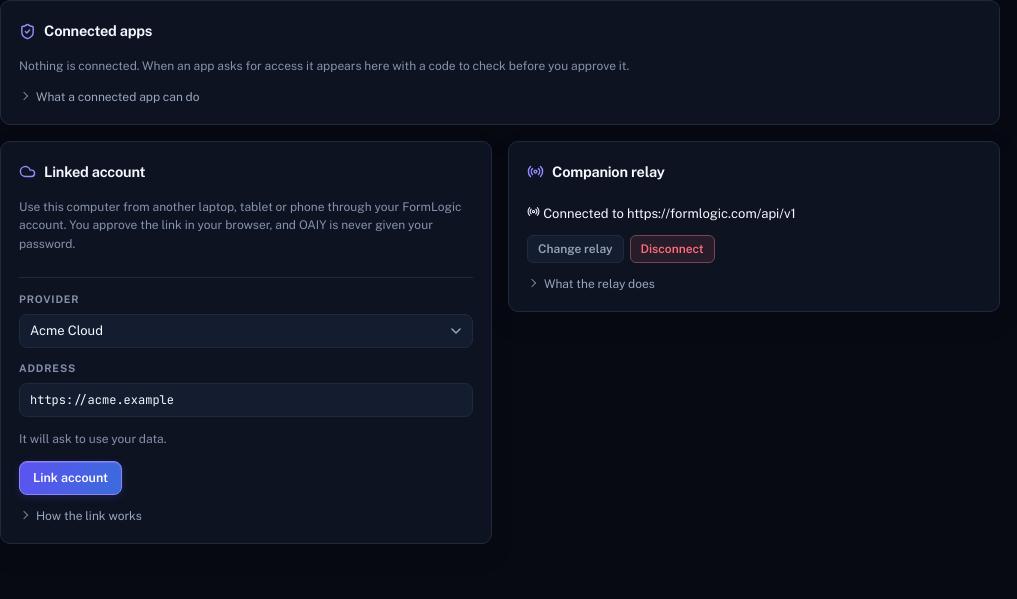
ConnectionsPanel · Companion relay › asks before disconnecting, and says approved phones survive it
The width and height of the screenshot is (1017, 599).
Click the button "Disconnect" at [672, 249], box x1=630 y1=235 x2=715 y2=263
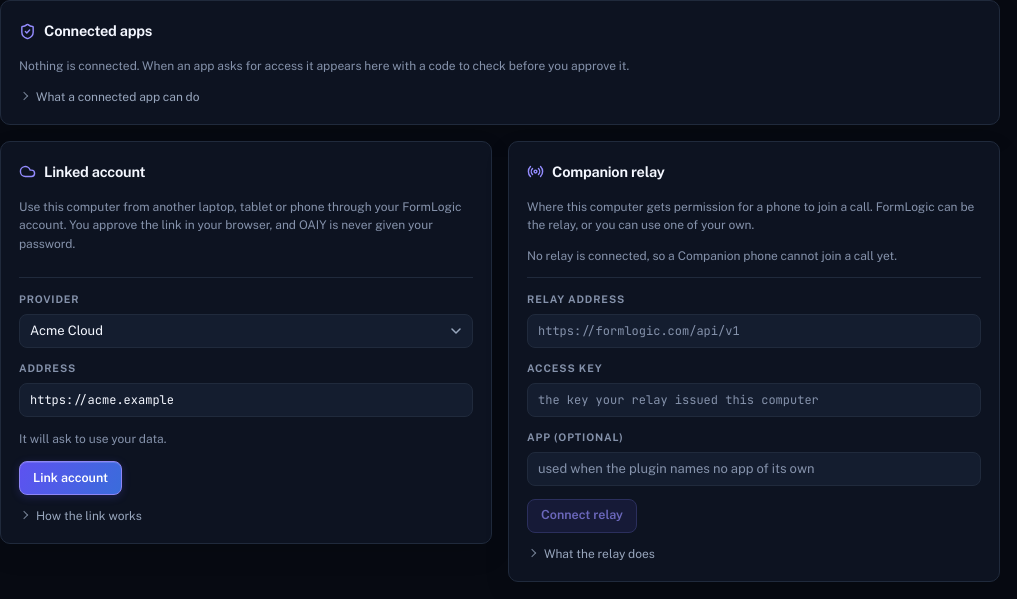
Result: the text "cannot join a call" is shown at x1=527 y1=249 x2=897 y2=263
